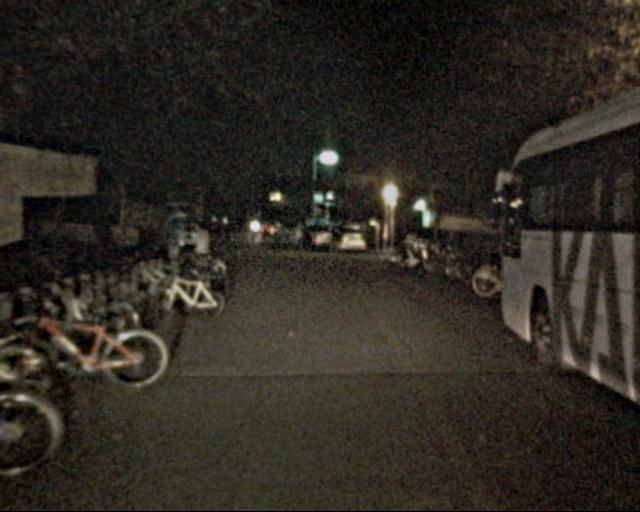person: (183, 220, 215, 297), (328, 224, 342, 259), (298, 224, 311, 256)
